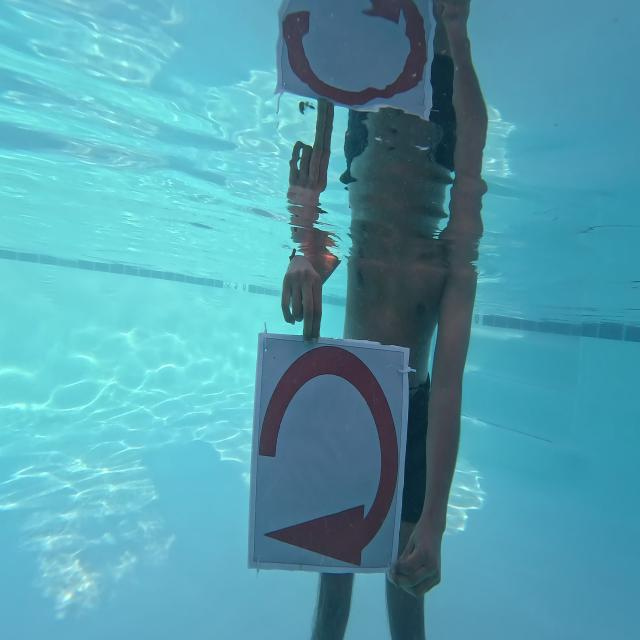red_side: (252, 338, 394, 582)
